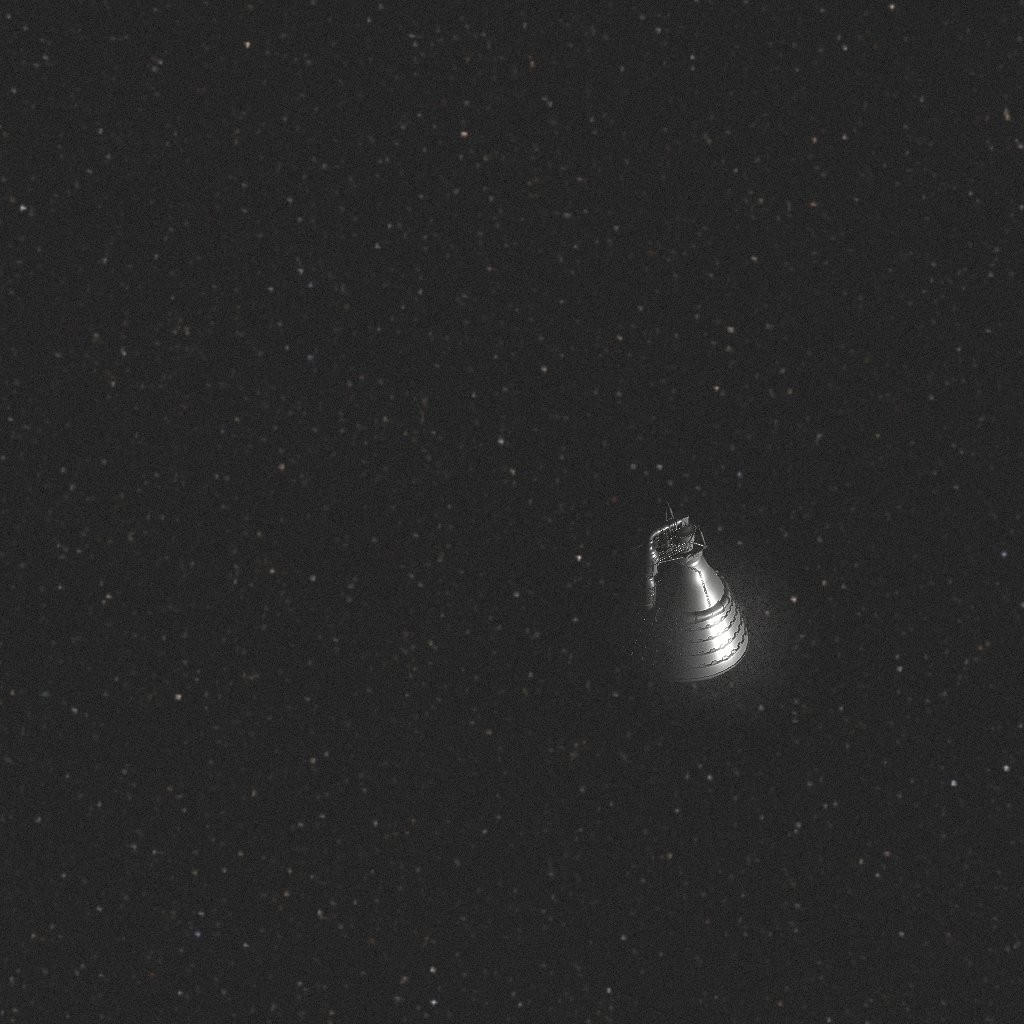debris: (608, 502, 750, 682)
